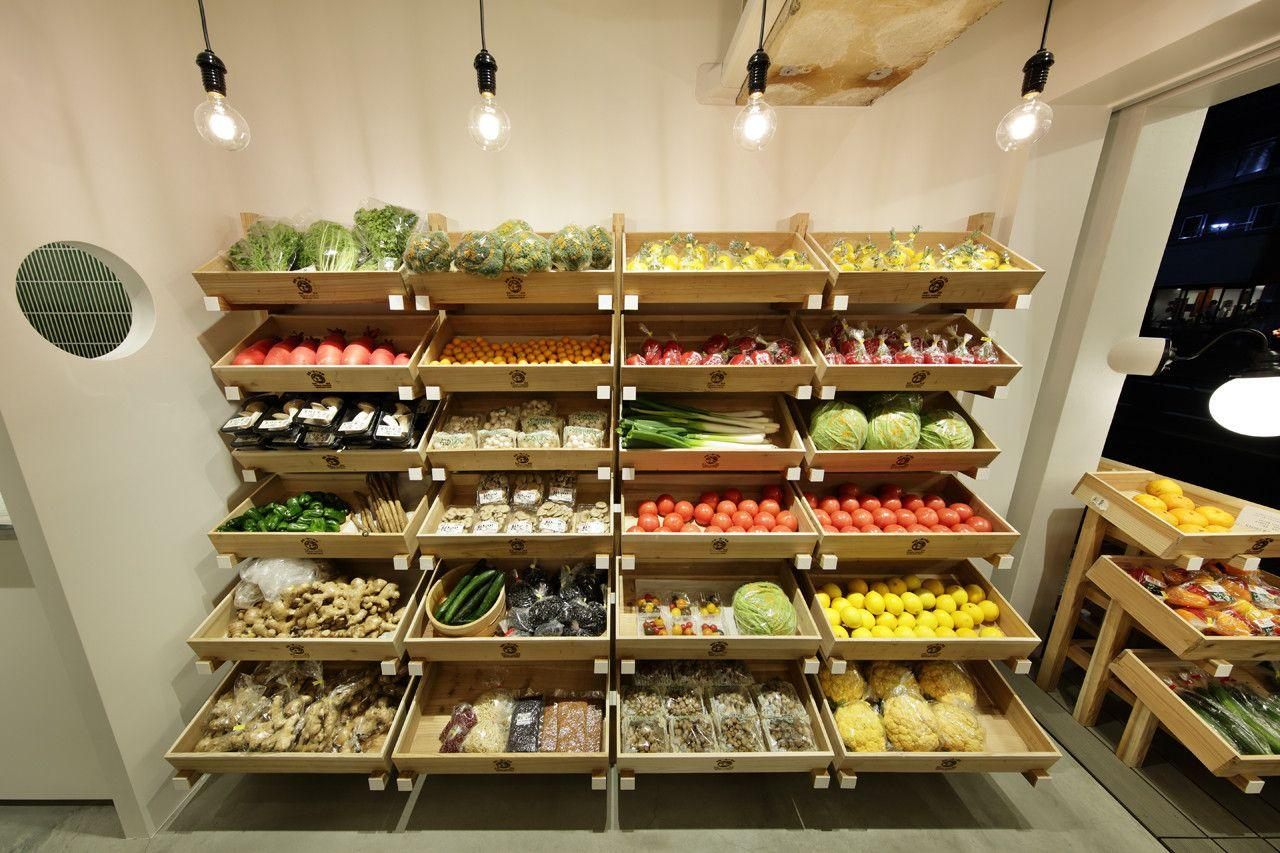cabbage: (809, 396, 984, 454), (726, 579, 809, 639)
cucumber: (428, 564, 506, 624)
ginger: (215, 664, 392, 754), (231, 578, 401, 641)
lemon: (817, 569, 1018, 647)
sweet pepper: (233, 488, 355, 539)
tomato: (810, 483, 1004, 537), (627, 484, 806, 537)
